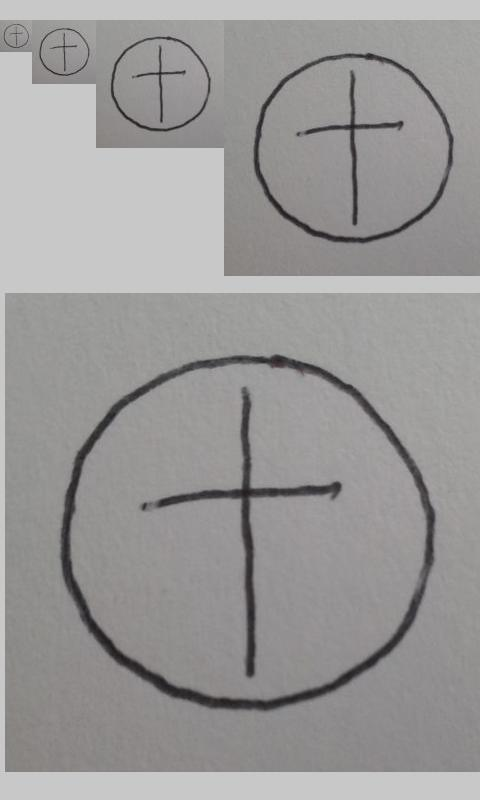button: (59, 352, 437, 713), (251, 52, 454, 243), (110, 36, 212, 132), (39, 27, 90, 76), (3, 23, 29, 49)
